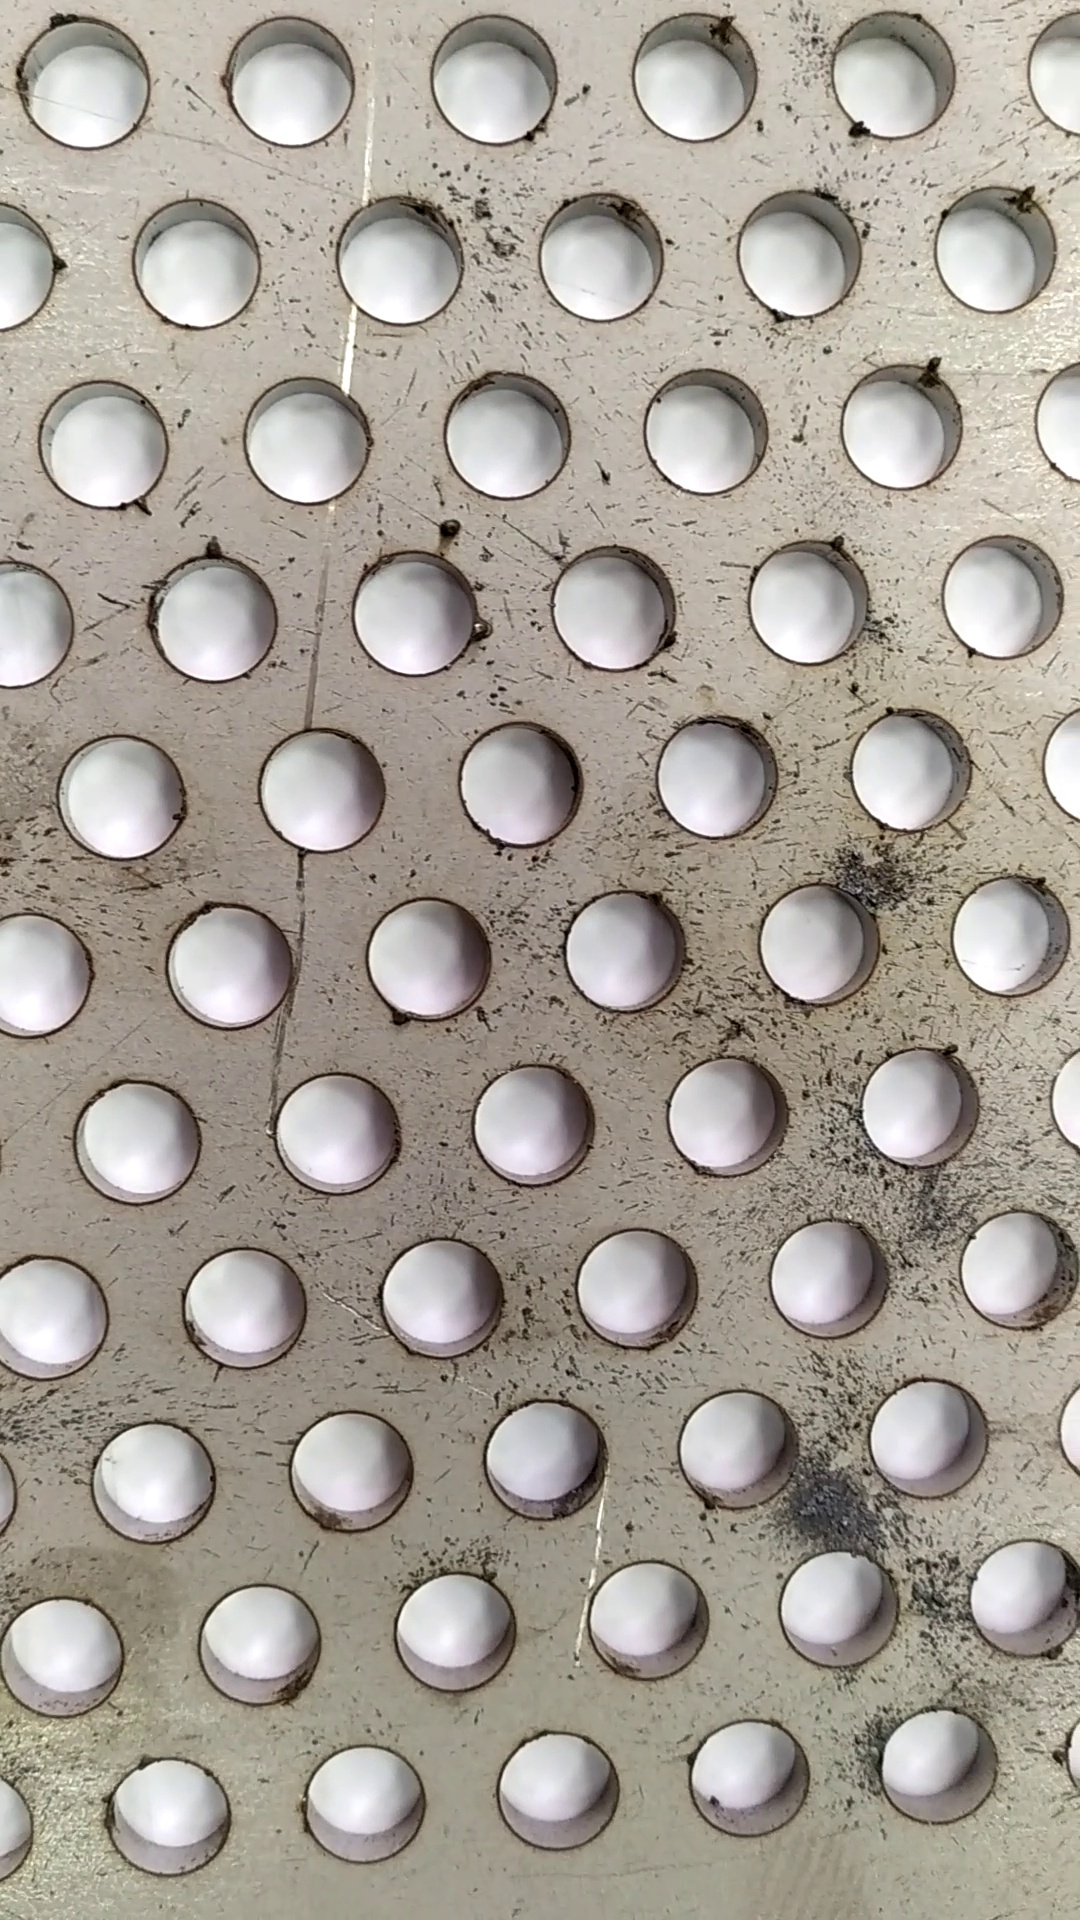Hole: (804, 1, 975, 152), (426, 357, 591, 512), (3, 7, 171, 152), (347, 887, 510, 1034), (411, 5, 567, 156), (324, 183, 483, 330), (208, 5, 365, 152), (731, 534, 889, 676), (578, 1545, 728, 1695), (165, 1230, 318, 1377), (615, 5, 769, 150), (727, 177, 881, 322), (825, 349, 975, 498), (156, 895, 313, 1036), (47, 724, 196, 872), (123, 187, 273, 334), (541, 534, 691, 680), (30, 368, 175, 520), (138, 545, 287, 691), (342, 535, 492, 680), (640, 707, 798, 844), (932, 524, 1080, 670), (841, 694, 989, 840), (63, 1069, 214, 1213), (483, 1716, 634, 1858), (291, 1734, 433, 1887), (862, 1691, 1026, 1822), (247, 719, 394, 864), (175, 1571, 330, 1709), (922, 181, 1073, 320), (236, 371, 389, 509), (88, 1746, 243, 1883), (745, 872, 891, 1015), (369, 1228, 516, 1370), (527, 183, 675, 324), (479, 1389, 620, 1536), (765, 1544, 920, 1677), (669, 1381, 816, 1520), (76, 1414, 225, 1552), (667, 1712, 820, 1846), (447, 715, 593, 855), (549, 884, 698, 1021), (632, 360, 775, 501), (567, 1215, 708, 1358), (655, 1048, 802, 1187), (266, 1068, 418, 1201), (1, 1581, 140, 1726), (280, 1404, 426, 1542), (386, 1567, 534, 1701), (942, 866, 1080, 1007), (760, 1207, 905, 1338), (463, 1060, 604, 1195), (861, 1367, 1004, 1501), (961, 1526, 1080, 1683), (949, 1207, 1080, 1338), (853, 1038, 986, 1166)
